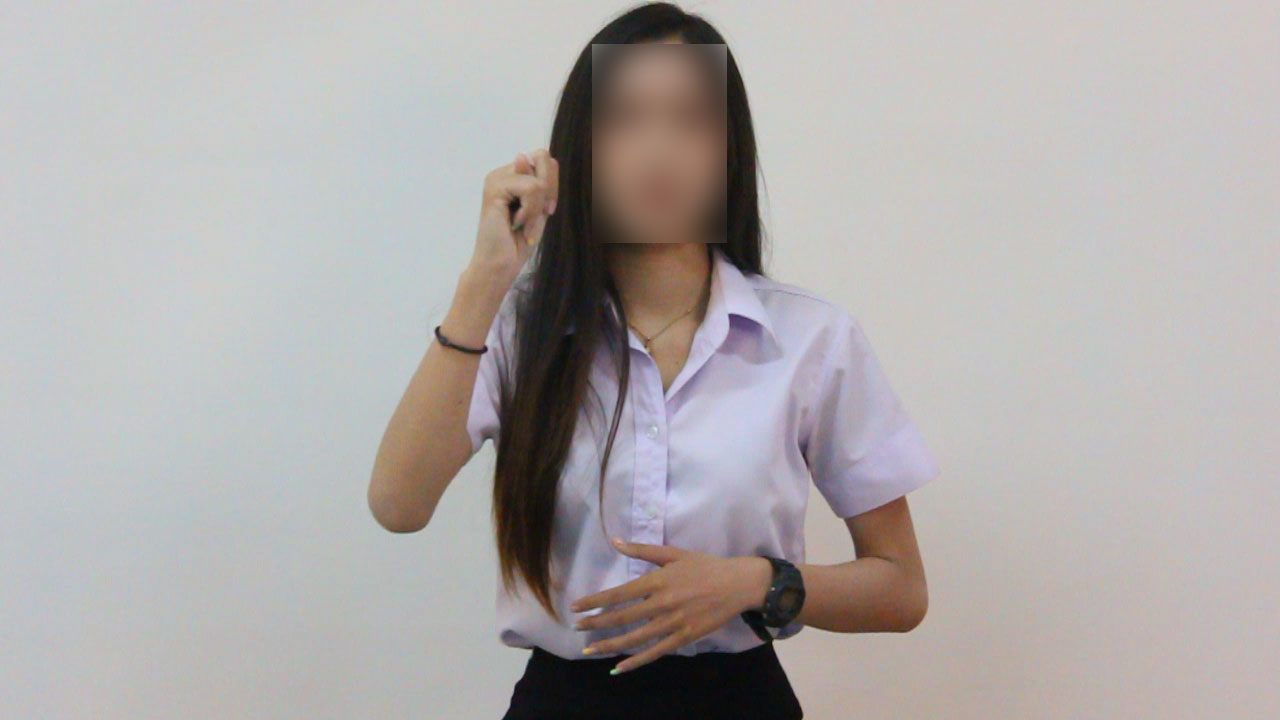nor: (451, 140, 570, 288)
